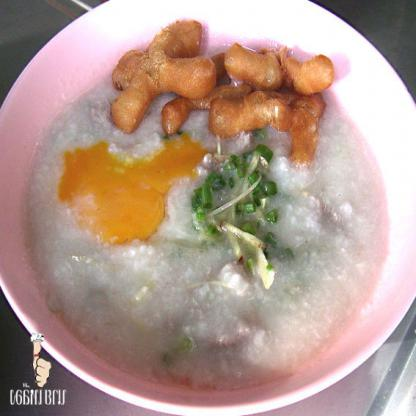Joke: (17, 32, 401, 406)
